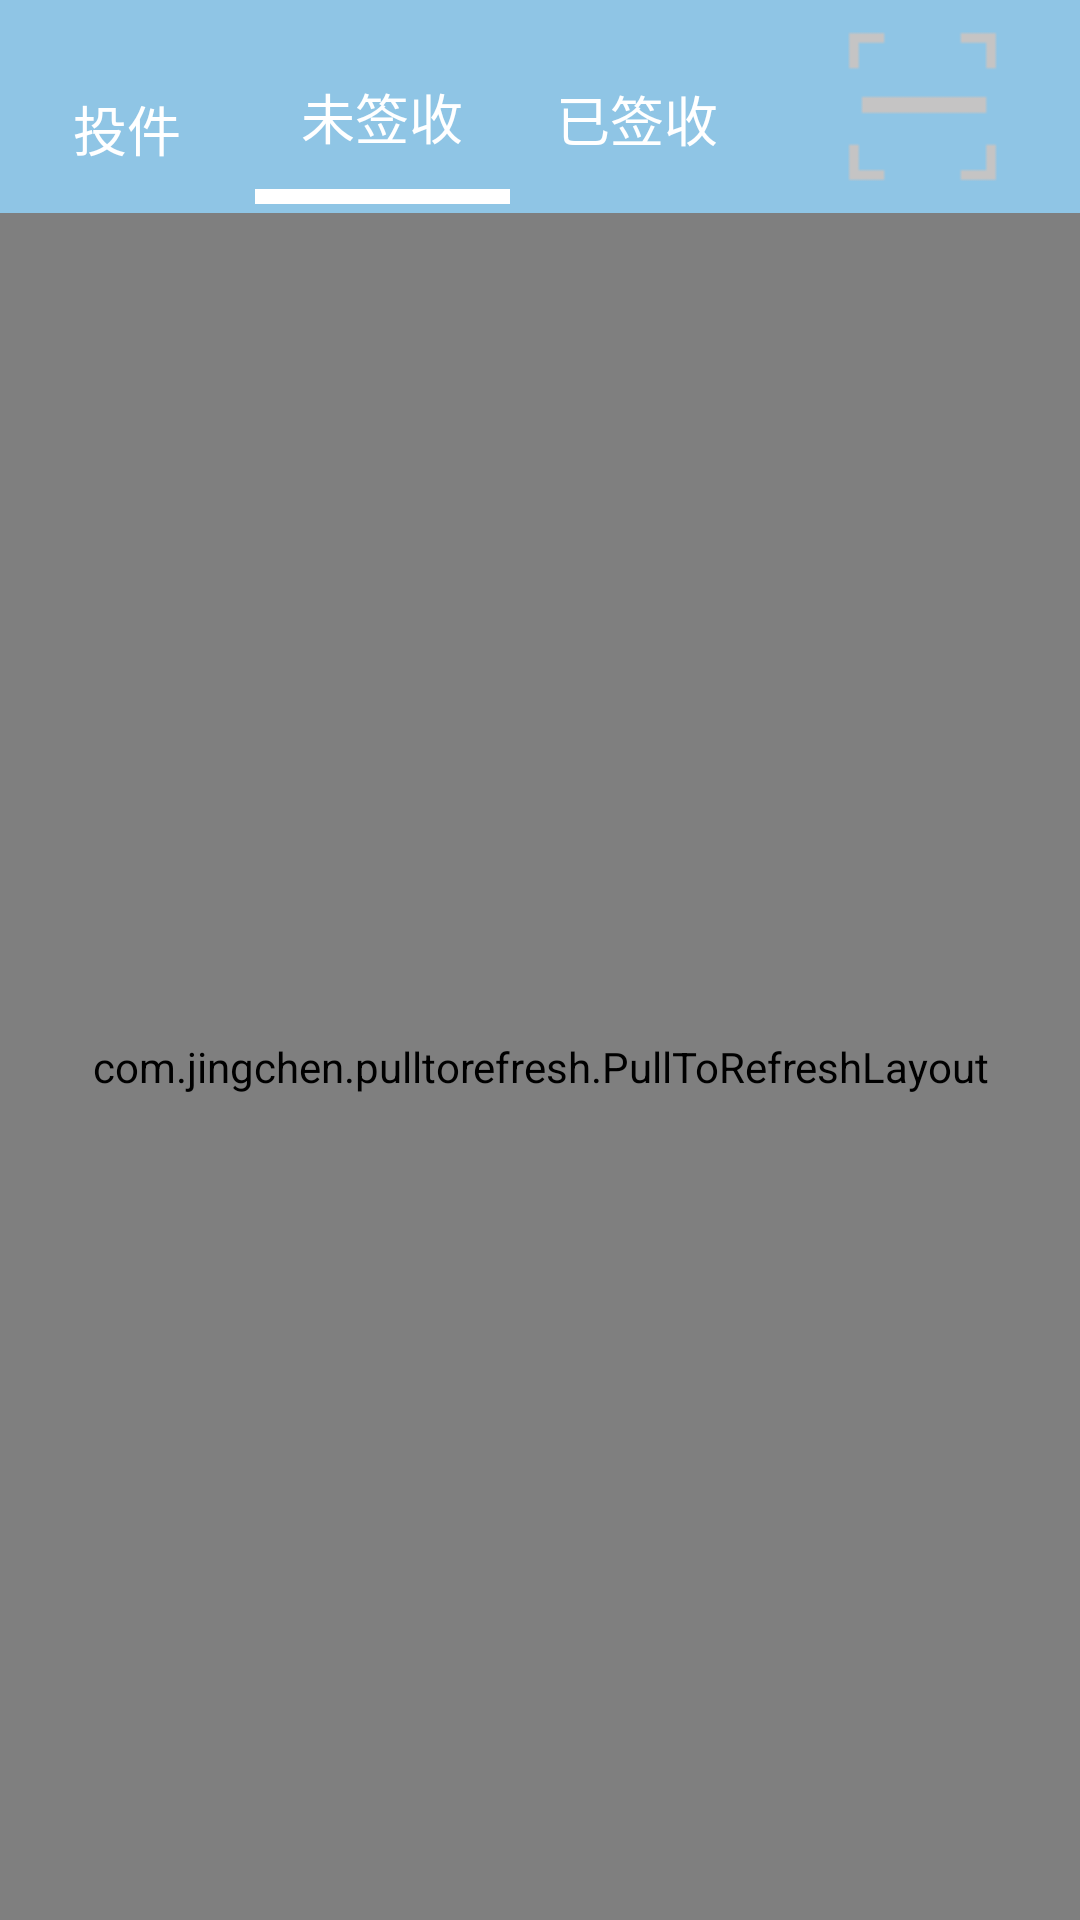

Screen size 1080w x 1920h. Icon name, then its center in pixels as (x=x, y=y):
saoyisao: (x=922, y=106)
